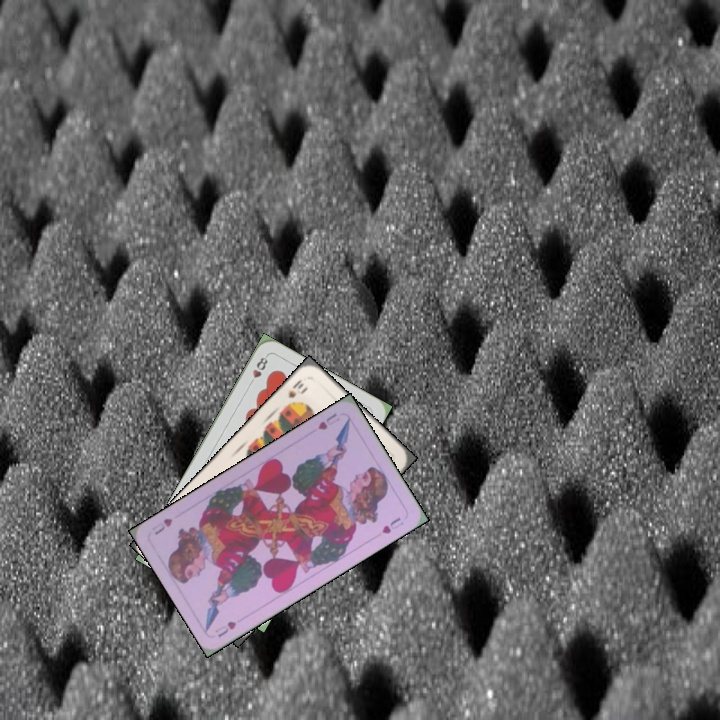H8: (245, 352, 270, 389)
HU: (211, 617, 239, 640), (314, 409, 340, 432)
S10: (284, 375, 306, 401)
